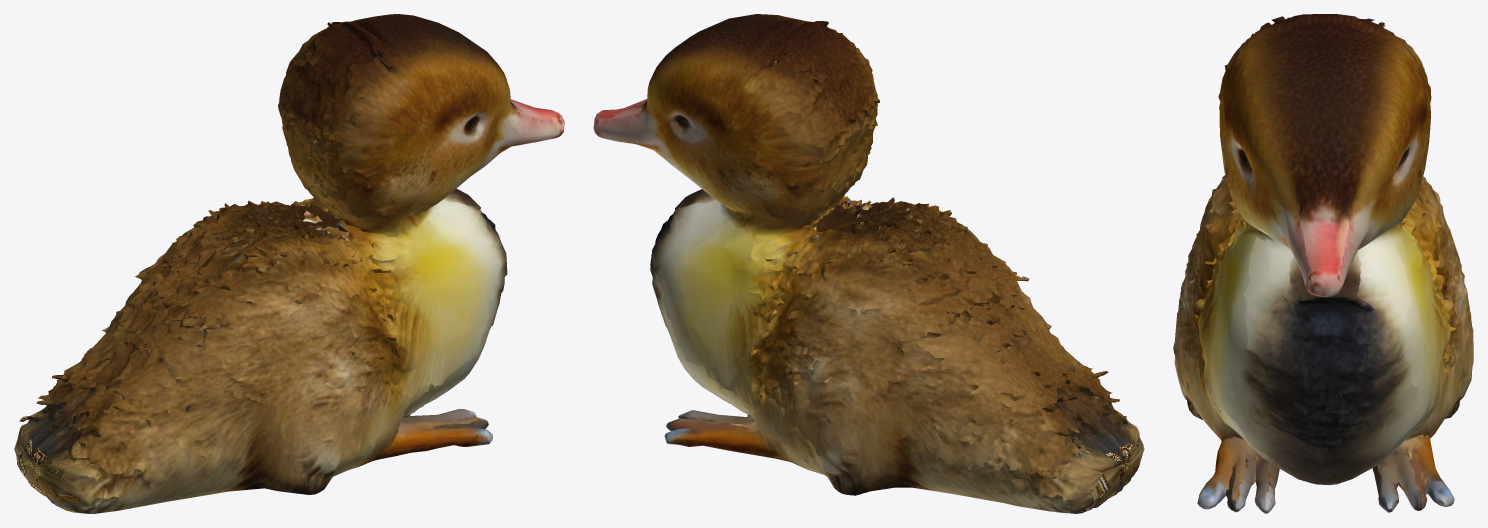
File: duck.glb
The picture shows the model from 3 angles, left to right: view 1: azimuth 30°, elevation 25°; view 2: azimuth 150°, elevation 25°; view 3: azimuth 270°, elevation 25°; orthographic projection. The views are drawn at different scales.
Visible parts, largest first — view 1: duckling; view 2: duckling; view 3: duckling.
Part boxes in pixels (x1,y1,x2,y2): duckling: (14,14,564,513); duckling: (593,14,1144,513); duckling: (1173,14,1473,513).
Bounding box in the file's own units: 0.1676 × 0.1199 × 0.0713.
Materials: 1 (1 with a texture image).
